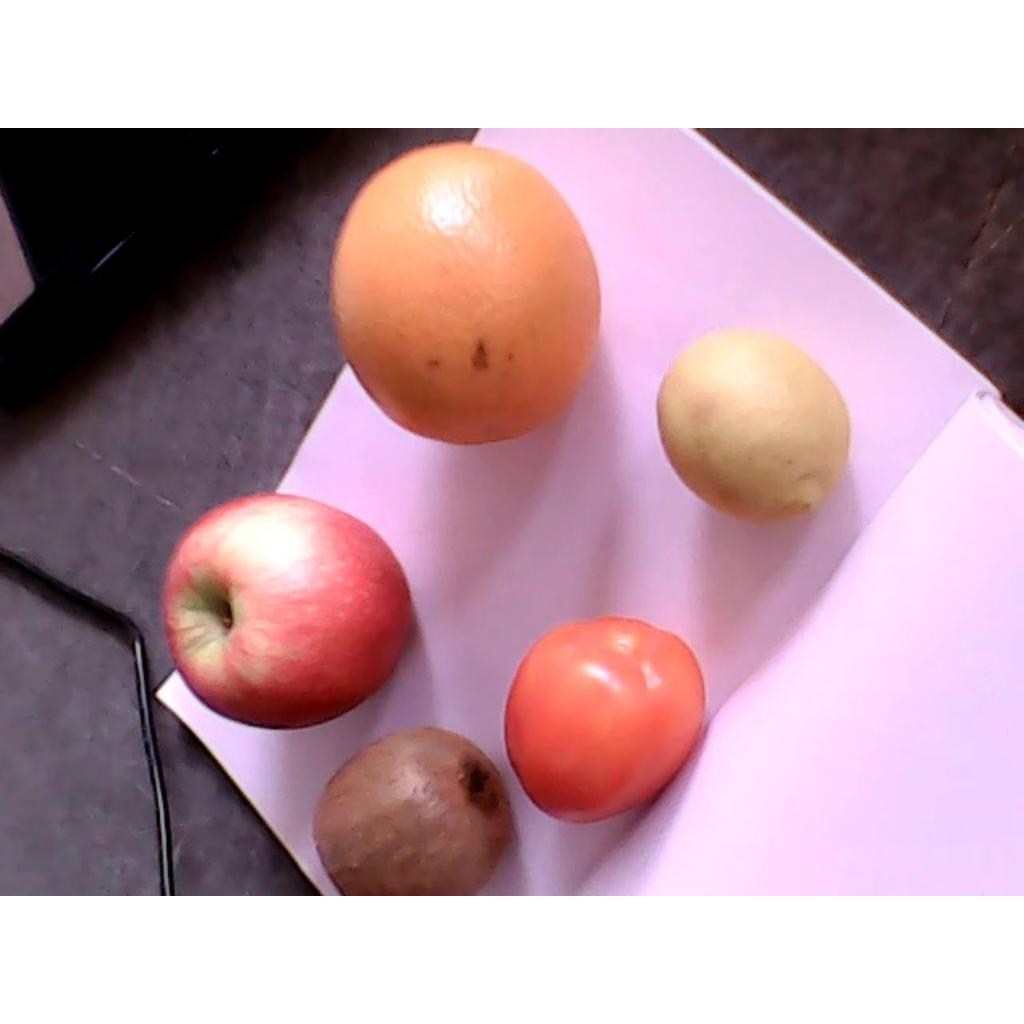apple: (162, 492, 413, 732)
kiwi: (313, 727, 515, 894)
lemon: (657, 325, 853, 524)
orange: (331, 142, 602, 445)
tomato: (506, 614, 708, 825)
